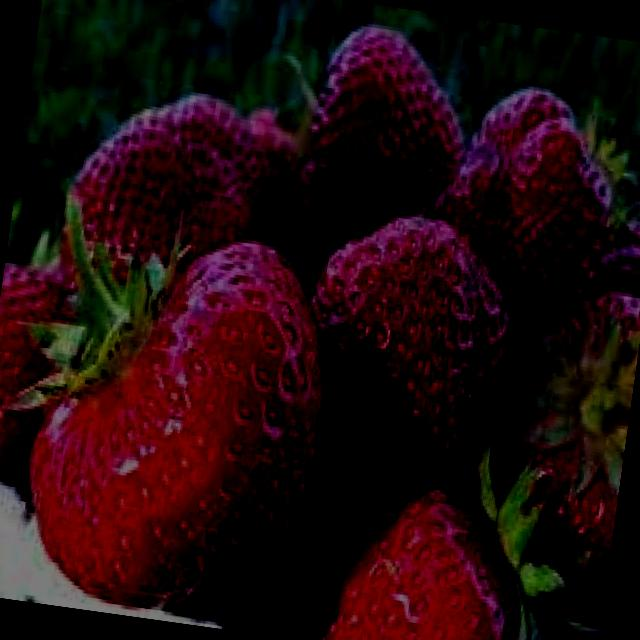Strawberry: (0, 183, 360, 630), (288, 198, 532, 504), (54, 74, 308, 320), (479, 275, 640, 597), (425, 73, 632, 323), (288, 13, 484, 266), (317, 463, 549, 640), (0, 256, 84, 492)
